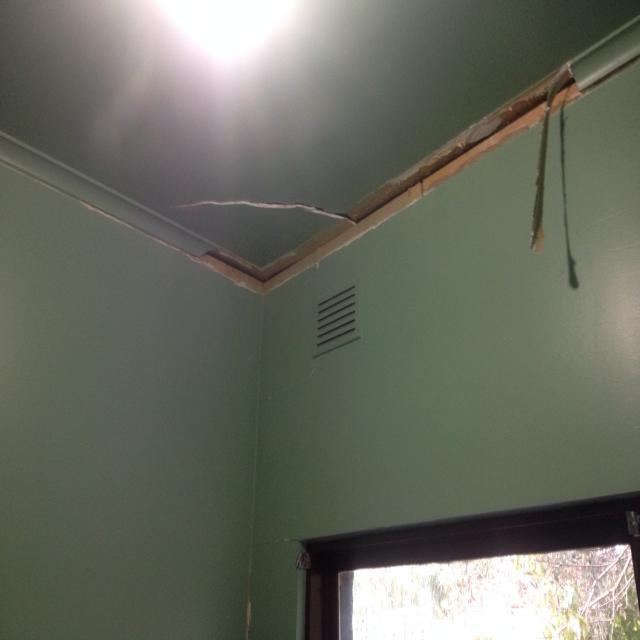Crack: (361, 58, 578, 238), (178, 194, 358, 287)
